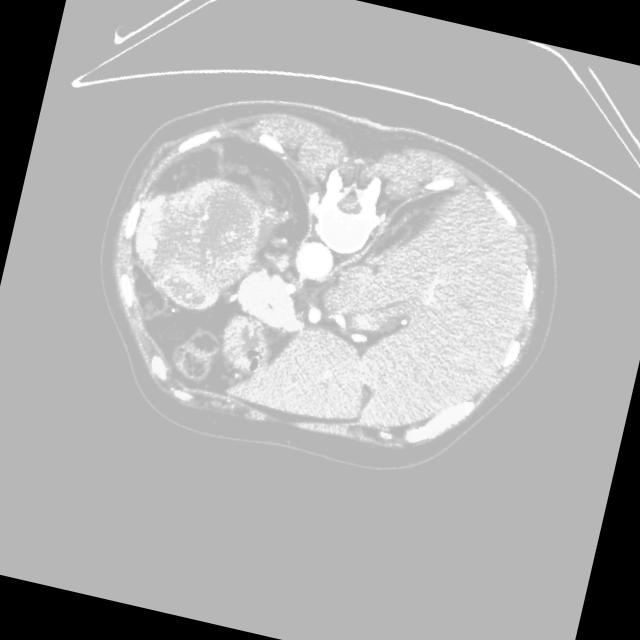TUMOR: (81, 146, 317, 343)
